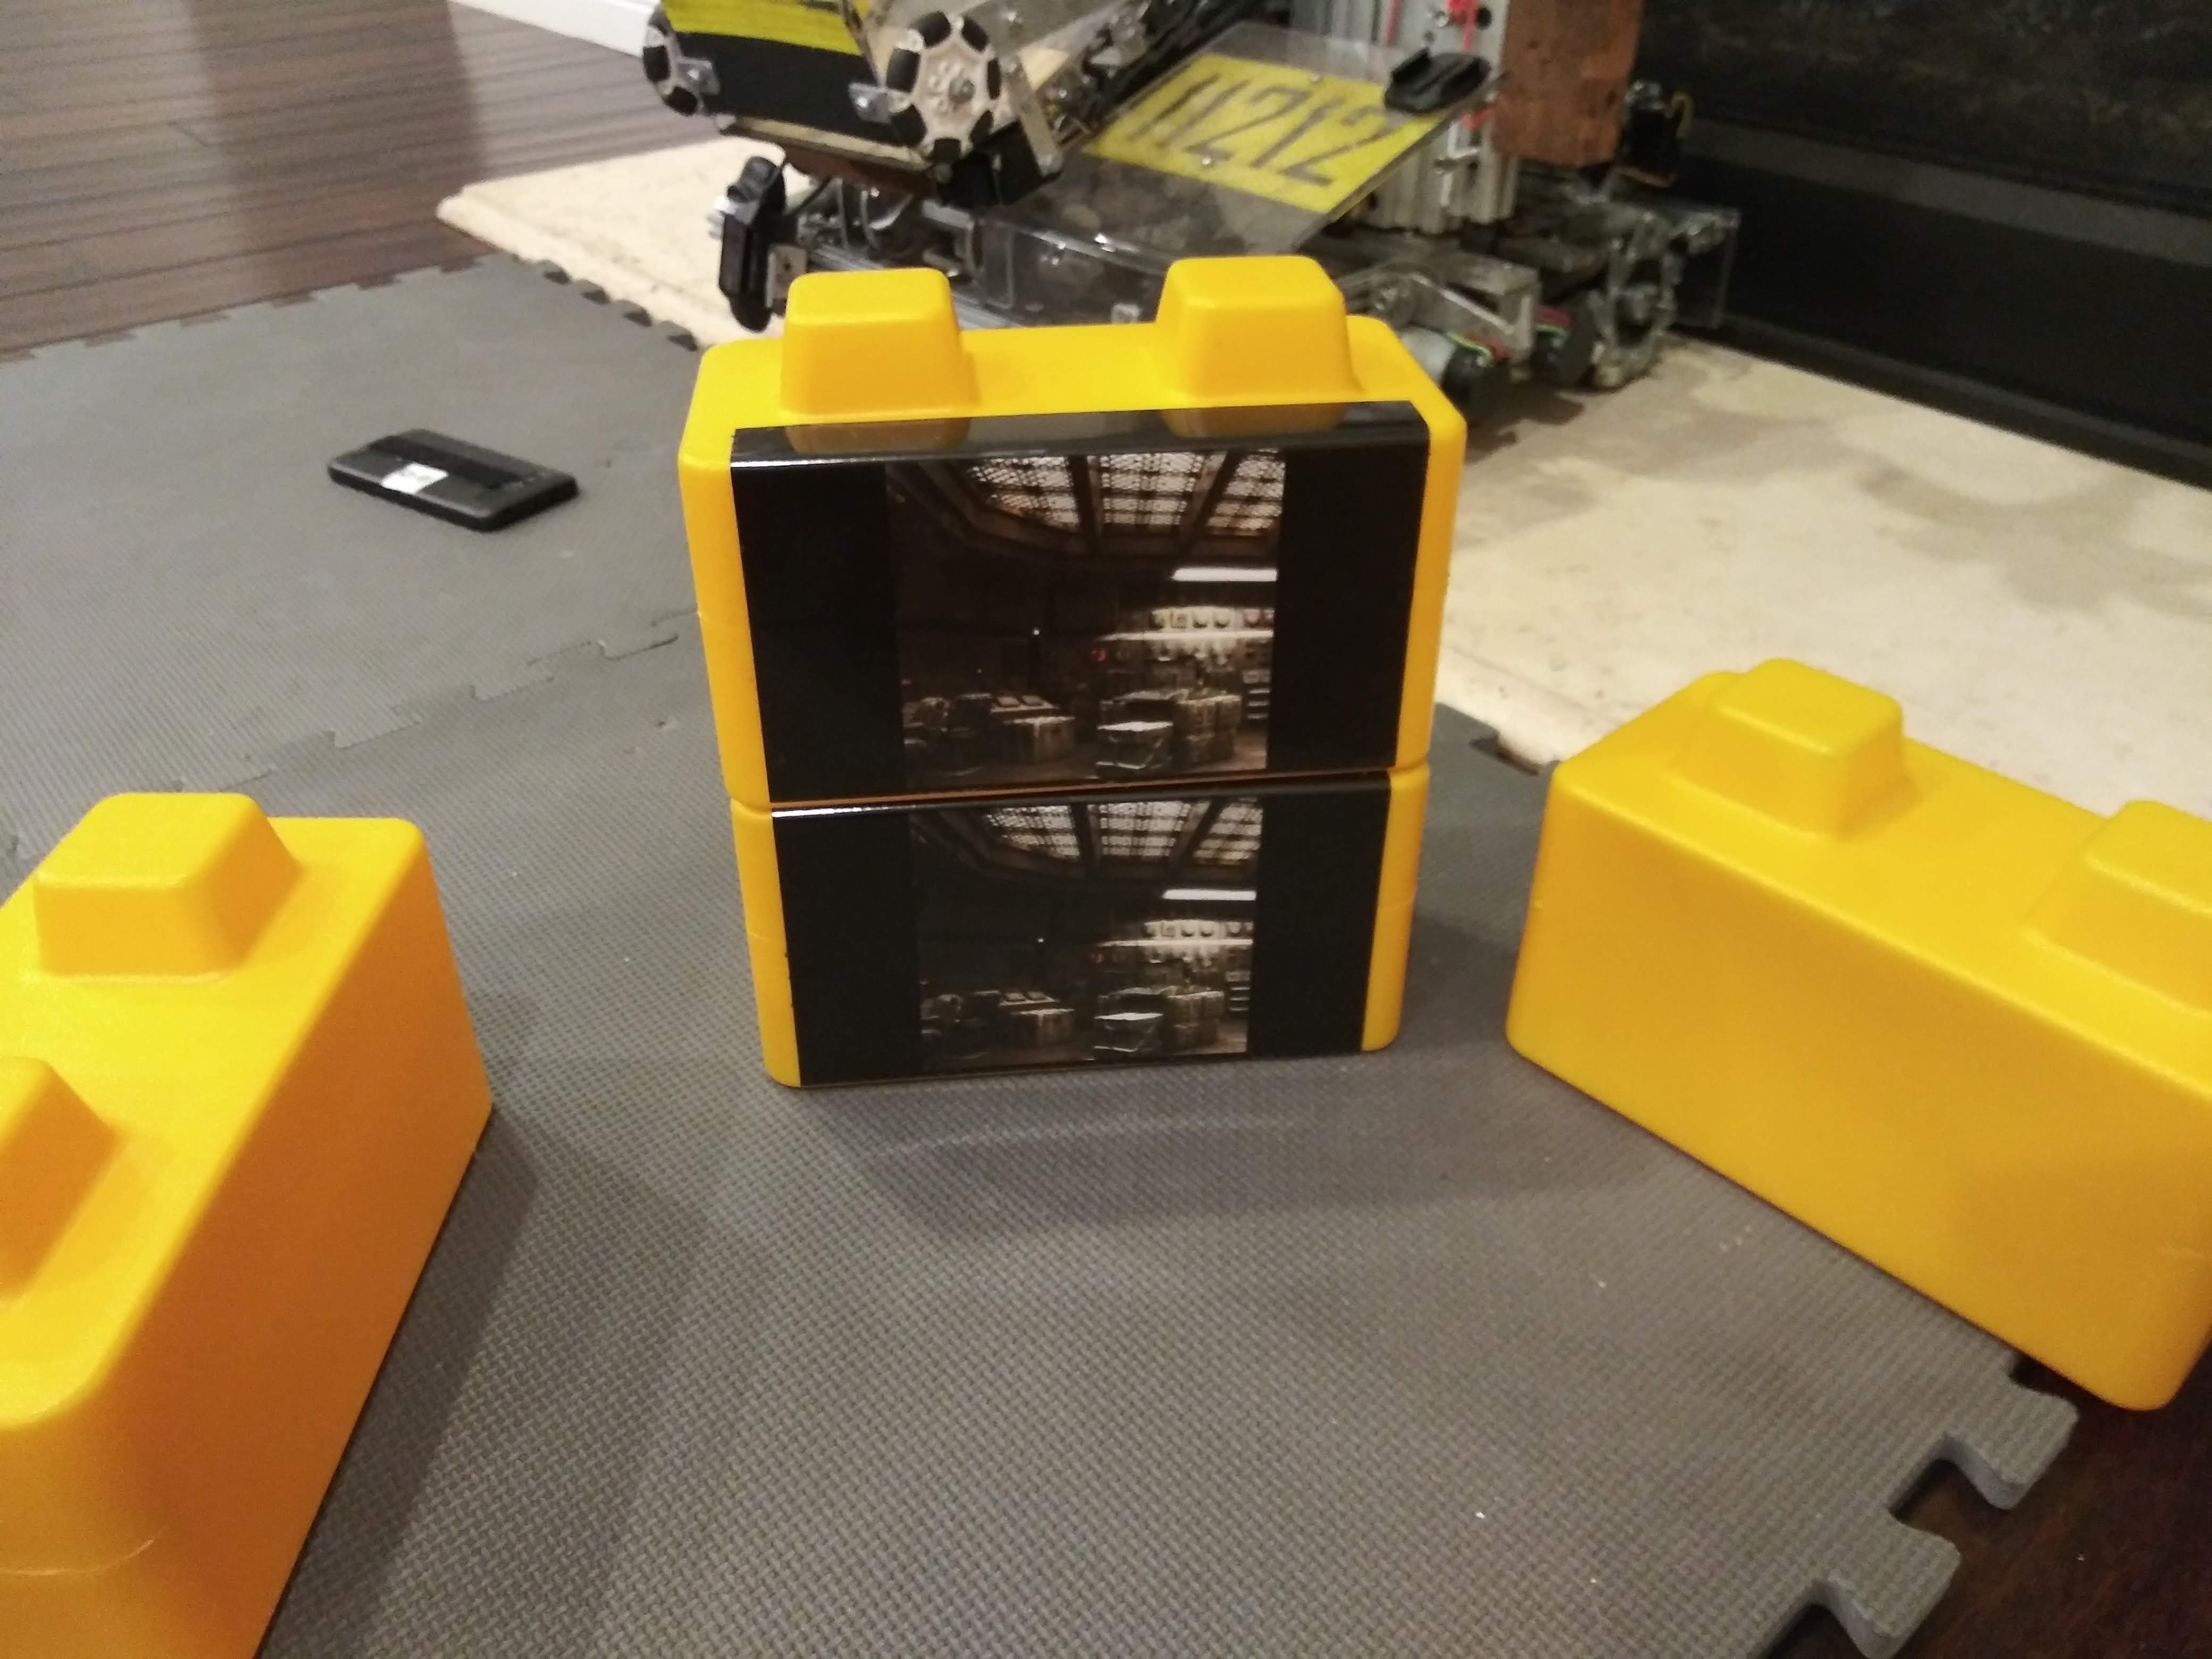skystone: (653, 375, 1458, 772), (674, 816, 1447, 1094)
stone: (1514, 694, 2174, 1342), (14, 816, 474, 1642)
